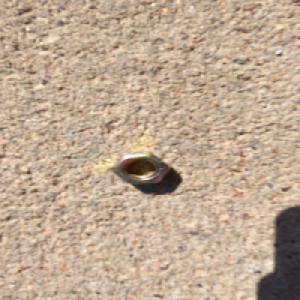Nut: (108, 150, 173, 187)
